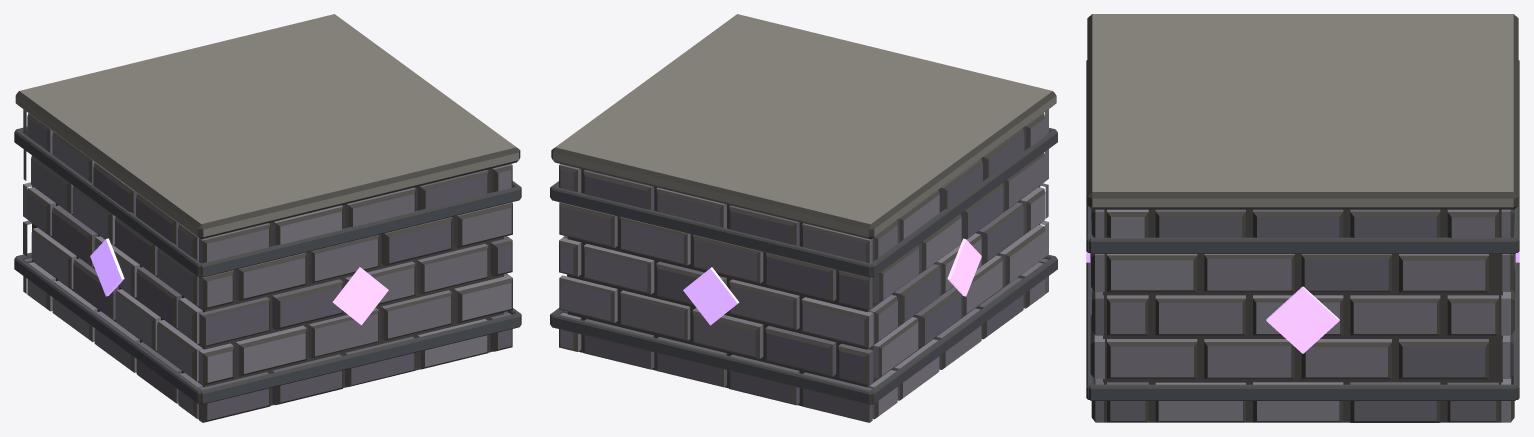
The model's file is turret_base.glb.
3 views of the same model, side by side, from view 1: azimuth 30°, elevation 25°; view 2: azimuth 150°, elevation 25°; view 3: azimuth 270°, elevation 25° (orthographic). The views are drawn at different scales.
Parts seen in each view (by area): view 1: TurretBase; view 2: TurretBase; view 3: TurretBase.
Boxes of the visible parts, <box> form: TurretBase: <box>14,14,521,422</box>; TurretBase: <box>550,14,1057,422</box>; TurretBase: <box>1086,14,1519,422</box>.
Size of the model in its own units: 1.34 by 0.8 by 1.34.
